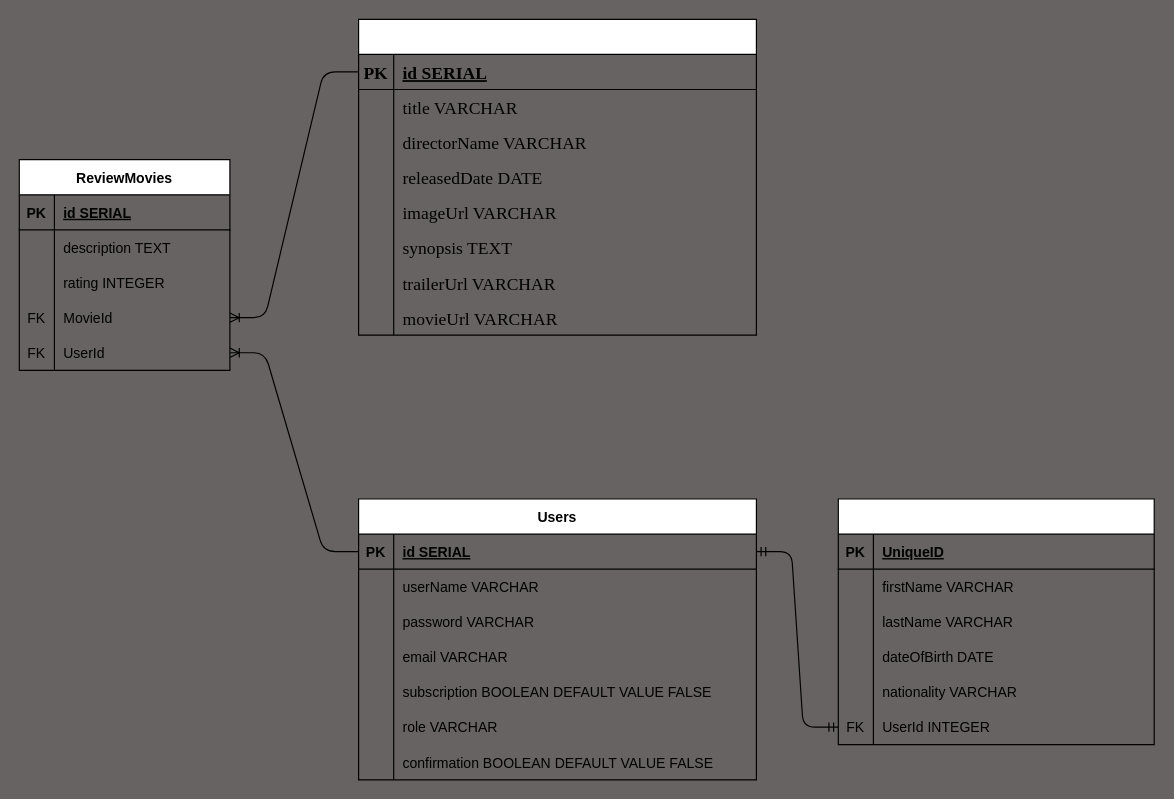
This 1174x799 diagram has some shape labels left out. Here are the shapes that lost their labels. From the top down, the box of each, then its label:
(357, 18, 756, 335): Movies
(837, 498, 1154, 745): UserProfile
